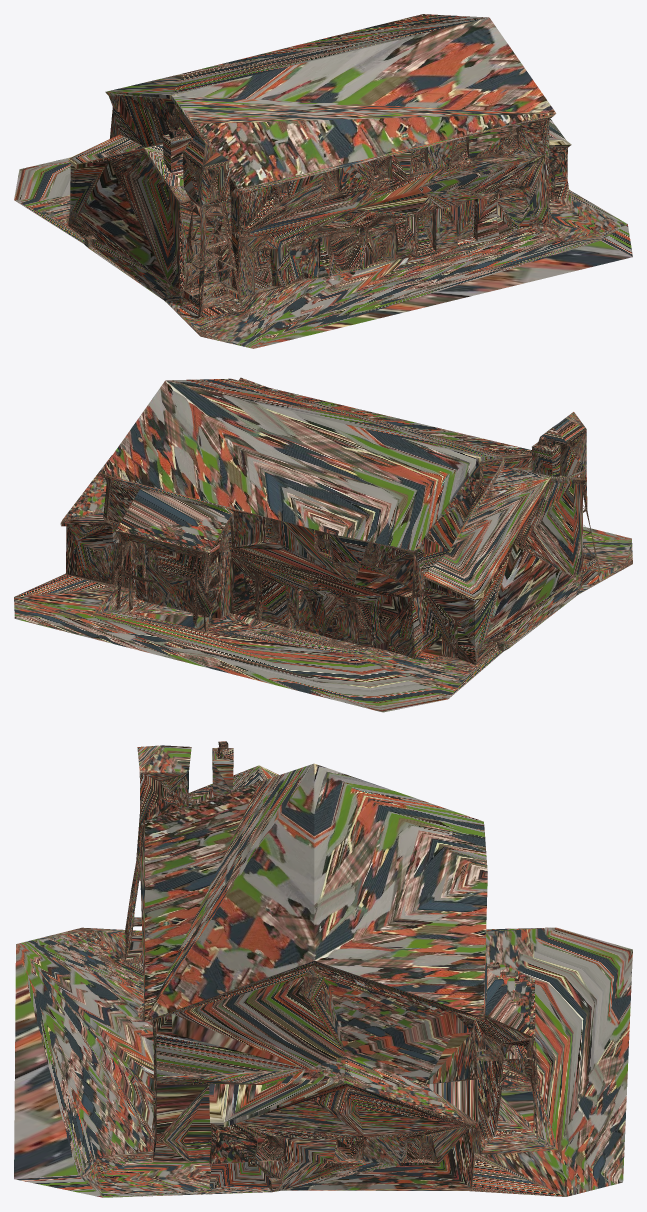
File: station_wh_3.glb
The picture shows the model from 3 angles, top to bottom: view 1: azimuth 30°, elevation 25°; view 2: azimuth 150°, elevation 25°; view 3: azimuth 270°, elevation 25°; orthographic projection. The views are drawn at different scales.
Parts seen in each view (by area): view 1: normalize; view 2: normalize; view 3: normalize.
Part boxes in pixels (left/top/right/bottom): normalize: left=14, top=14, right=632, bottom=348; normalize: left=14, top=377, right=632, bottom=712; normalize: left=14, top=741, right=632, bottom=1197.
Size of the model in its own units: 1 by 0.3608 by 0.9675.
Materials: 1 (1 with a texture image).
